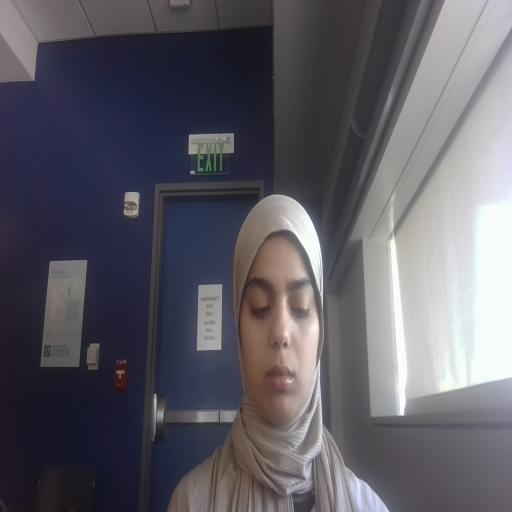lookingdownatphone: (239, 233, 319, 426)
